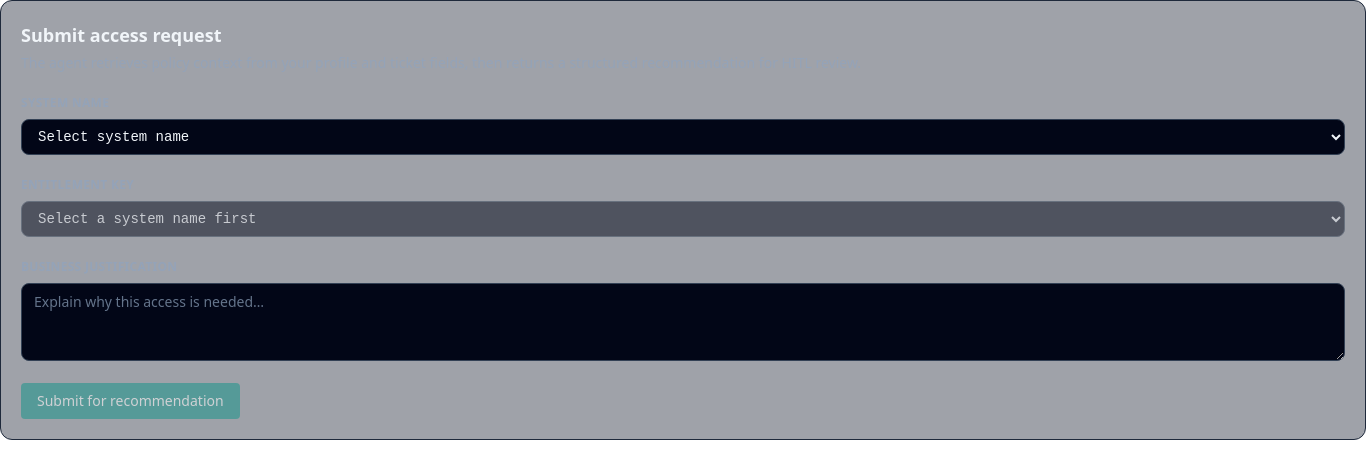
Scenario: RequestSubmitForm › limits entitlement options to the selected system and keeps submit disabled until all ticket fields are set
Expected: the button "Submit for recommendation" is disabled, [21,383,240,419]
Select "DATA_WAREHOUSE" in the dropdown labelled "System name": (683, 137) [21,119,1345,155]
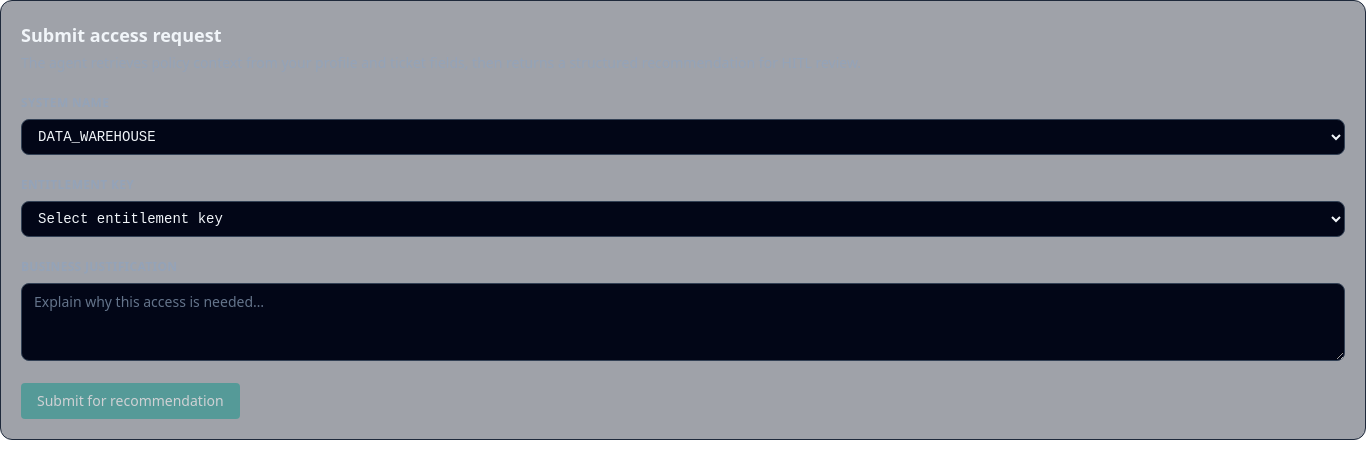
Expected: the dropdown labelled "Entitlement key" is enabled
Select "FIN_DATASET_READ" in the dropdown labelled "Entitlement key": (683, 219) [21,201,1345,237]
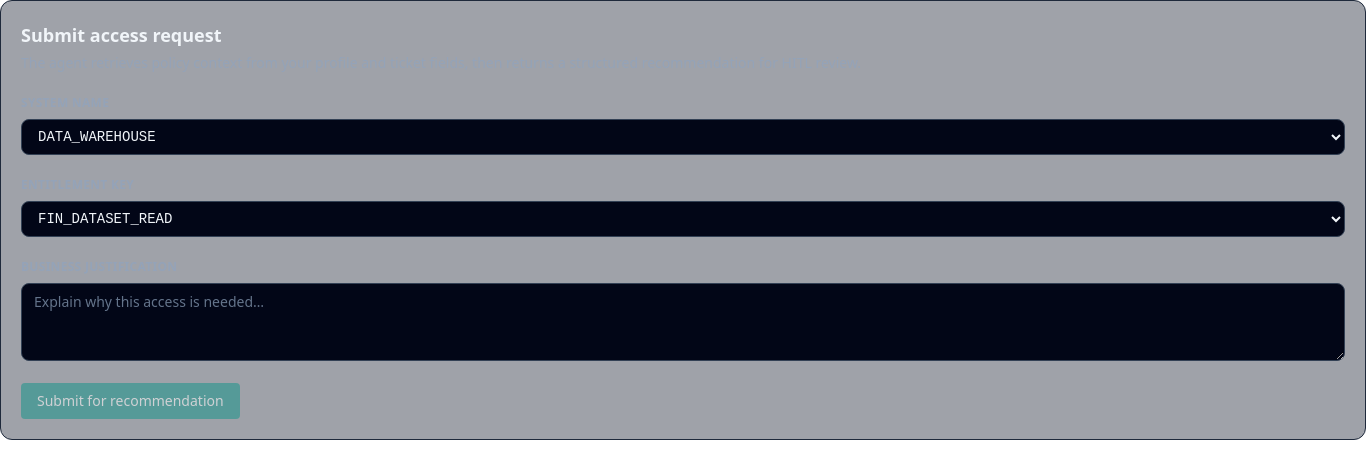
Expected: the button "Submit for recommendation" is disabled, [21,383,240,419]
In the text box with placeholder "Explain why this access is needed…": (683, 322) [21,283,1345,361], type "Quarterly reporting pipeline"
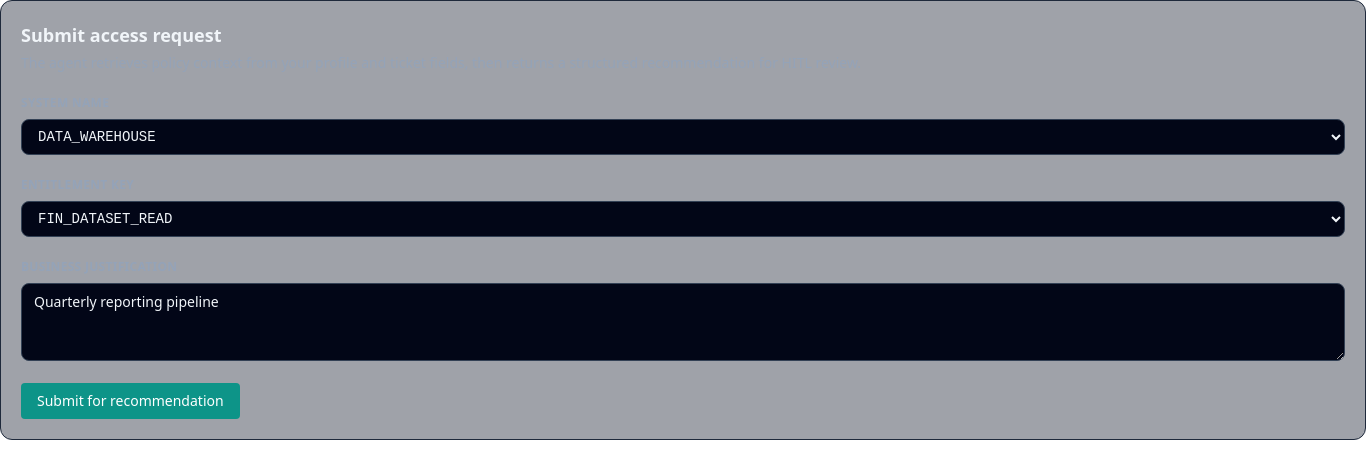
Expected: the button "Submit for recommendation" is enabled, [21,383,240,419]
